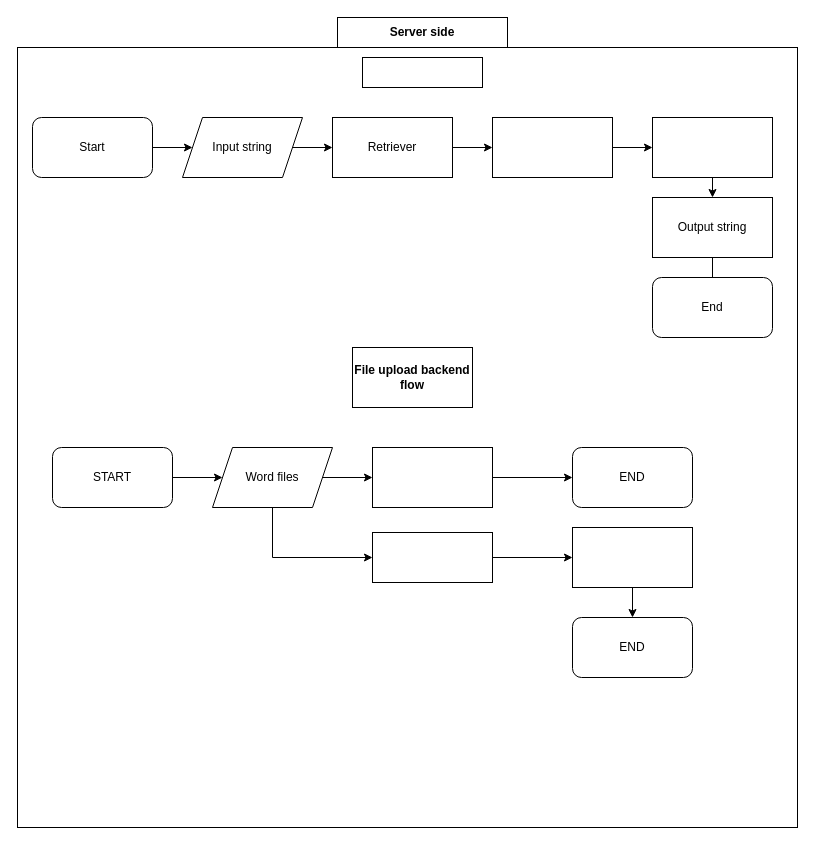
Some shapes in this 815 by 845 pixel diagram are drawn without their labels. Each missing label, with the centre of its shape:
"Append to the vector store" belongs at point (432, 557).
"Apply prompt template" belongs at point (552, 147).
"Inference backend flow" belongs at point (422, 72).
"LLM" belongs at point (712, 147).
"Replace the modified vector store in the server" belongs at point (632, 557).
"Store in blob storage" belongs at point (432, 477).
